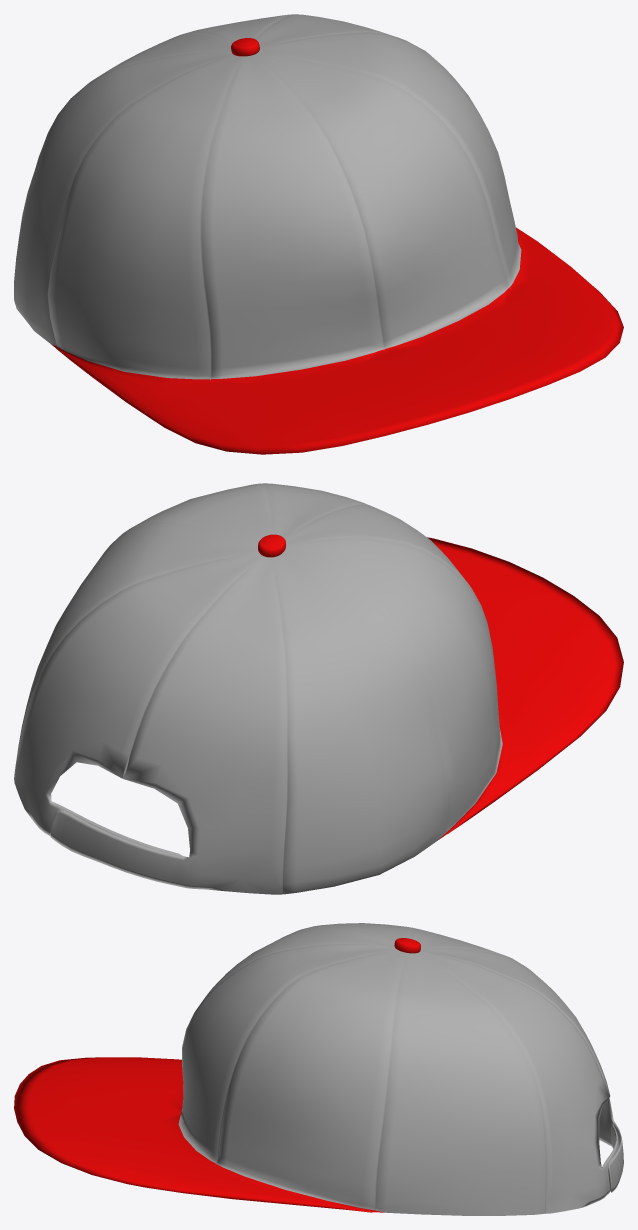
File: Hat2.fbx
3 renders of one model, top to bottom at view 1: azimuth 30°, elevation 25°; view 2: azimuth 150°, elevation 25°; view 3: azimuth 270°, elevation 25°, orthographic. The views are drawn at different scales.
Parts seen in each view (by area): view 1: Hat_Hip_Hop:Mesh; view 2: Hat_Hip_Hop:Mesh; view 3: Hat_Hip_Hop:Mesh.
Boxes of the visible parts, x1,y1,x2,y2 form: Hat_Hip_Hop:Mesh: (14, 14, 623, 454); Hat_Hip_Hop:Mesh: (14, 483, 623, 894); Hat_Hip_Hop:Mesh: (14, 923, 623, 1215).
Bounding box in the file's own units: 57.47 × 34.71 × 84.56.
